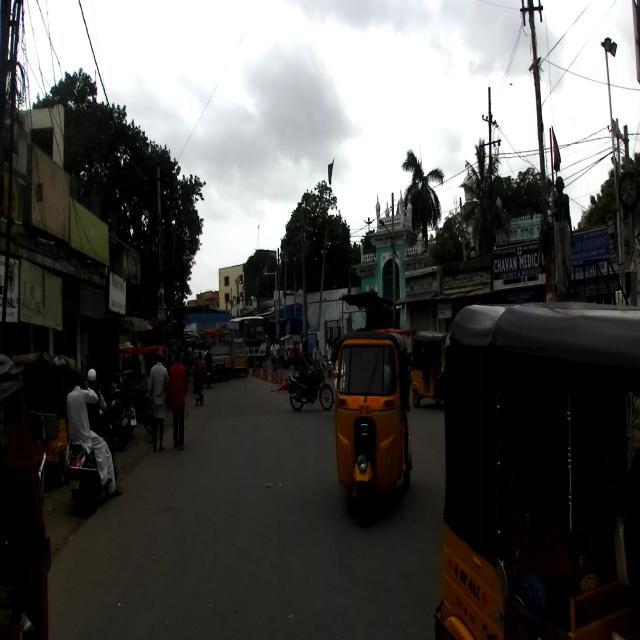autorickshaw: (430, 299, 638, 638), (0, 352, 60, 638), (330, 327, 414, 522), (13, 350, 78, 484)
motorcycle_Hero: (286, 357, 334, 412)
scooter: (62, 396, 118, 515)
